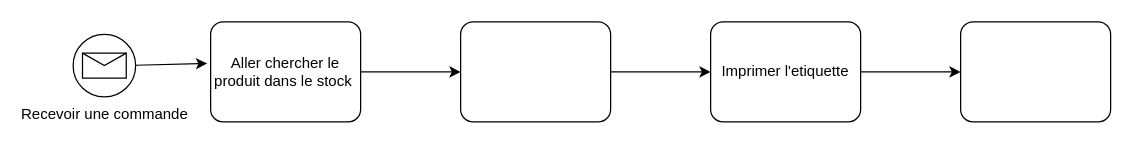
Image size: 1133x145. Some labels were removed from this diagram. The centre of each missing label's shape, as x and y in pixels:
Placer le carton dans la zone "à expédié": (1035,71)
Placer le produit dans un carton: (535,71)
